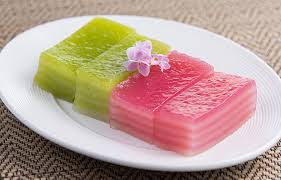kanomchan: (25, 16, 259, 155), (152, 69, 268, 158)
